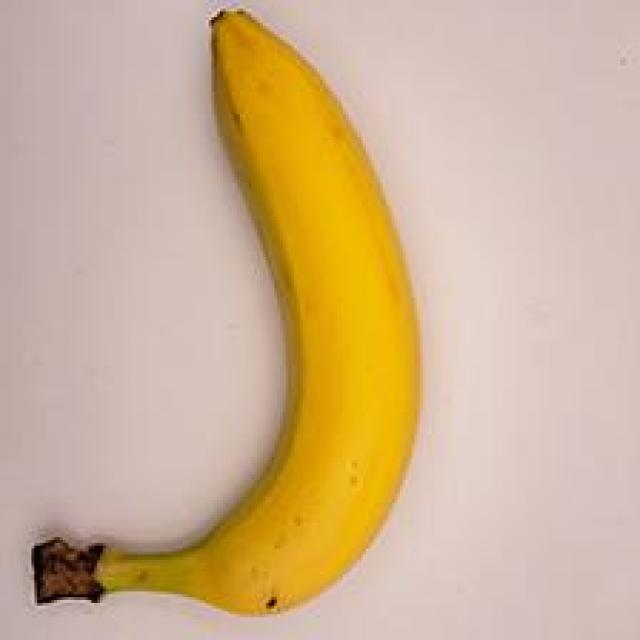Ripe: (7, 1, 448, 640)
